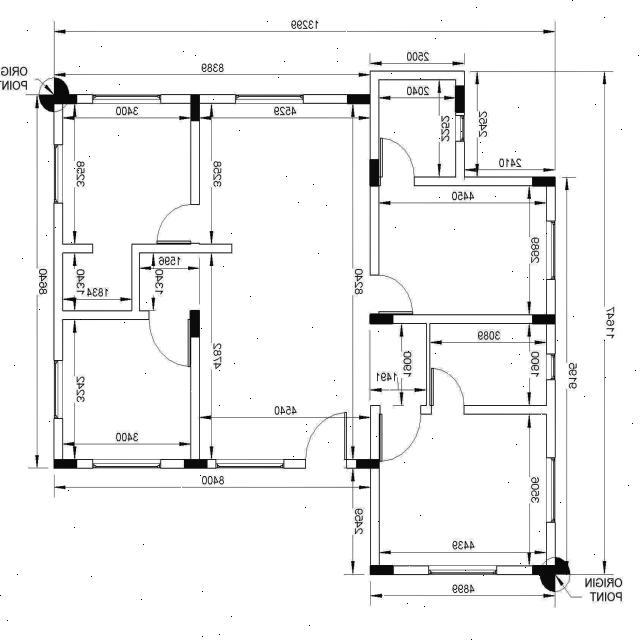Column: (370, 159, 380, 187), (455, 85, 465, 113), (190, 310, 200, 338), (190, 94, 200, 121), (369, 314, 394, 324), (347, 94, 371, 104), (532, 176, 556, 186), (532, 314, 556, 324), (54, 459, 78, 469), (184, 459, 208, 469), (356, 459, 380, 469), (370, 565, 394, 575), (54, 94, 77, 104), (532, 565, 555, 575)
Door: (379, 405, 422, 462), (148, 310, 190, 366), (305, 412, 347, 468), (156, 204, 200, 243), (370, 275, 414, 313), (380, 138, 414, 186), (430, 368, 464, 414)
Window: (92, 94, 161, 104), (92, 459, 161, 469), (428, 566, 497, 576), (236, 94, 304, 104), (216, 459, 284, 469), (546, 457, 556, 523), (54, 144, 64, 204), (546, 220, 556, 280), (54, 360, 64, 419), (455, 115, 465, 142), (546, 354, 556, 380)
